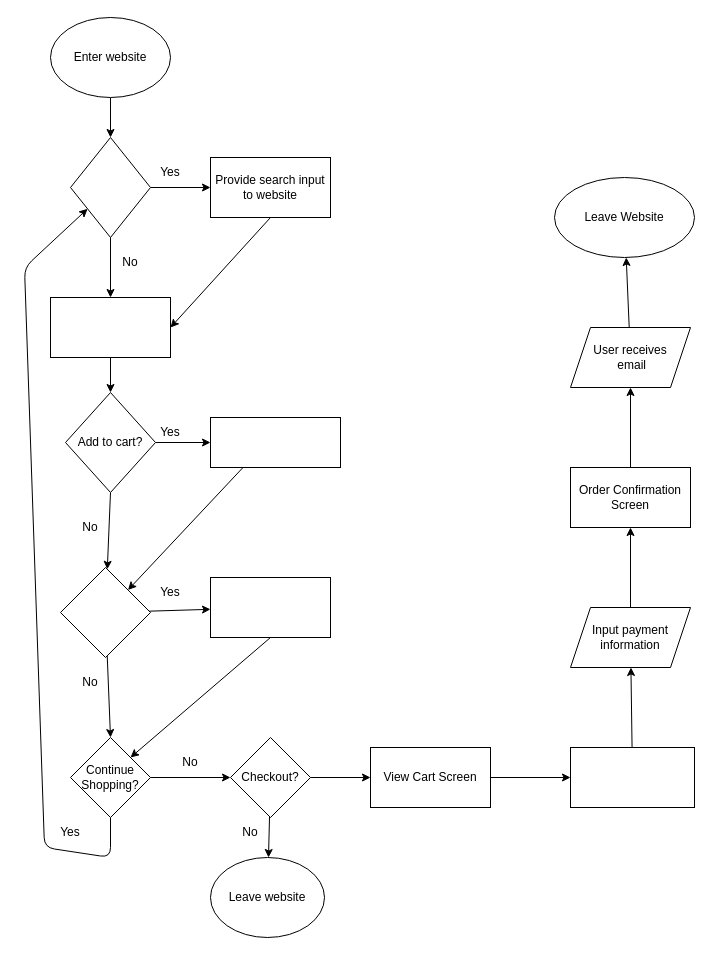
Image size: 712x955. Some labels were removed from this diagram. Each missing label, with the box of its shape:
Displays added to cart confirmation: (210, 416, 340, 468)
Look over products: (50, 296, 170, 358)
Search for product: (70, 136, 150, 238)
View Payment Screen: (570, 746, 694, 808)
View product webpage: (210, 576, 330, 638)
View product?: (60, 566, 150, 658)
